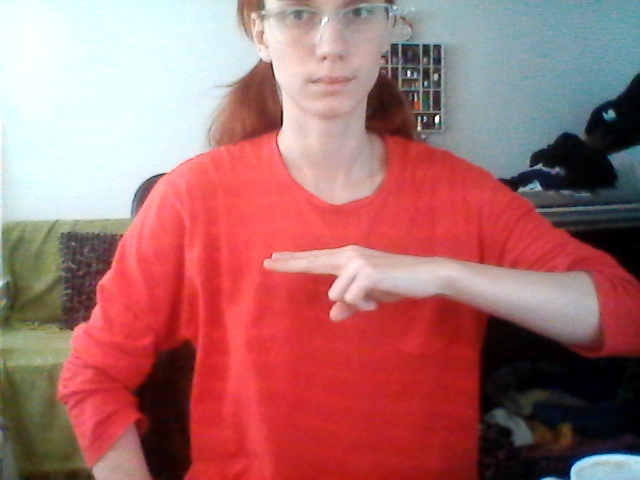frajer: (255, 236, 446, 335)
